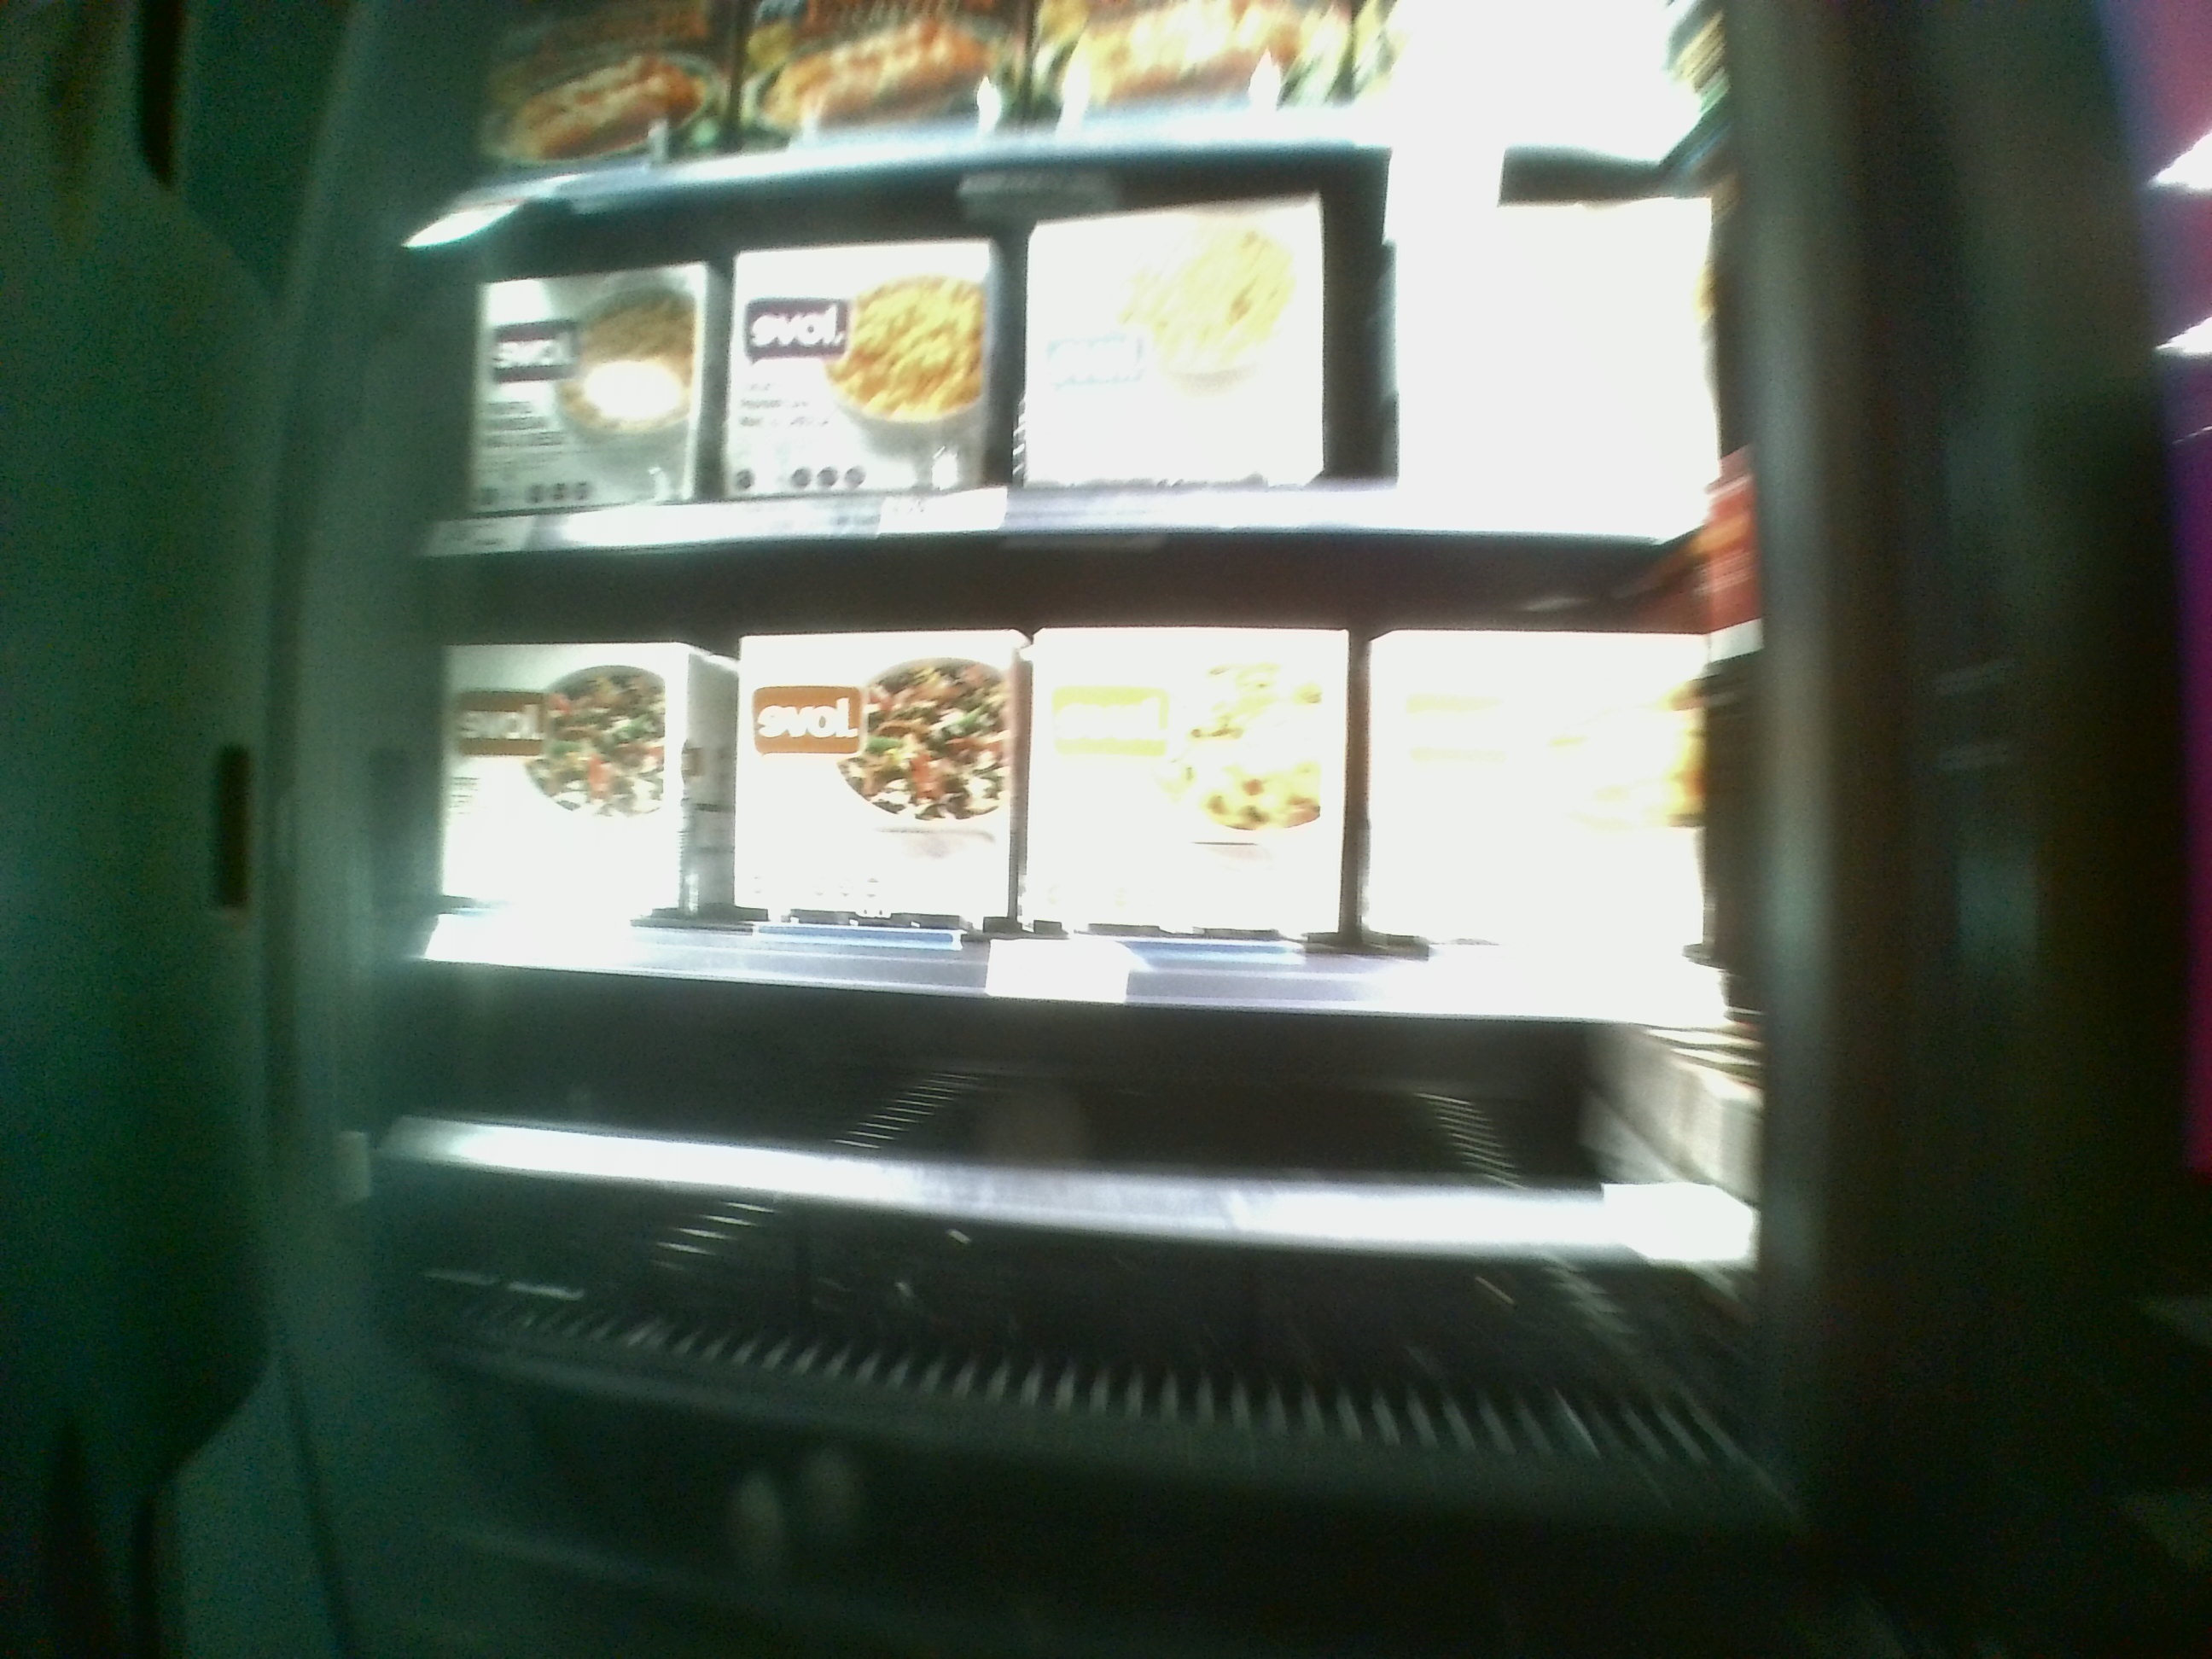shelf: (420, 545, 1745, 1009), (416, 1002, 1747, 1413), (416, 181, 1759, 551)
